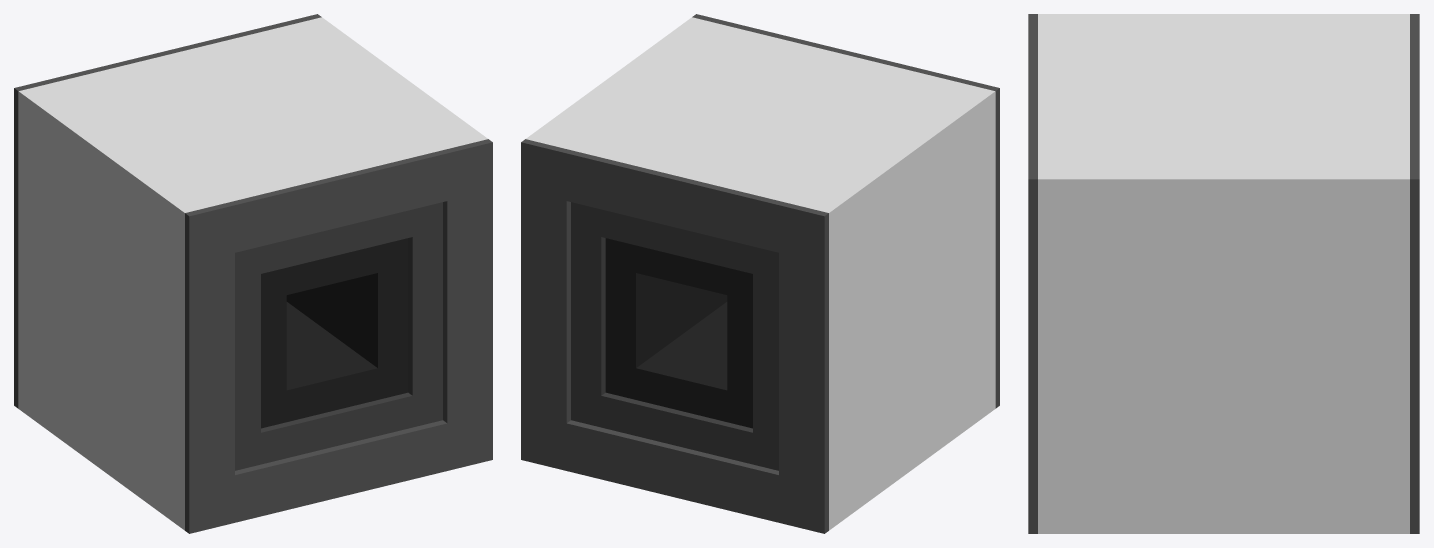
Rendered from MuroHueco.FBX.
3 views of the same model, side by side, from view 1: azimuth 30°, elevation 25°; view 2: azimuth 150°, elevation 25°; view 3: azimuth 270°, elevation 25° (orthographic). The views are drawn at different scales.
Visible parts, largest first — view 1: MuroHueco; view 2: MuroHueco; view 3: MuroHueco.
Boxes of the visible parts, bbox=[...] form: MuroHueco: bbox=[14, 14, 492, 533]; MuroHueco: bbox=[521, 14, 999, 533]; MuroHueco: bbox=[1028, 14, 1419, 533].
Size of the model in its own units: 1 by 1 by 1.
1 material, 1 textured.
